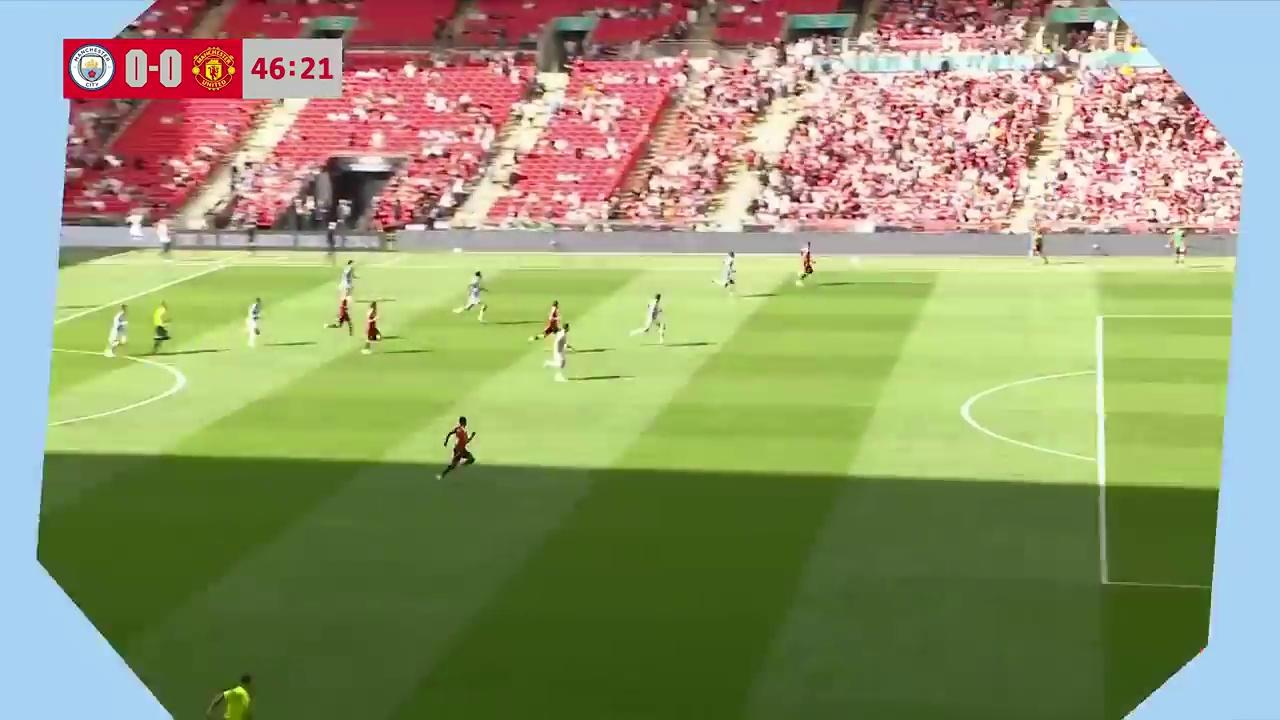player: (436, 415, 477, 481), (206, 671, 253, 720), (453, 273, 486, 320), (545, 323, 571, 380), (641, 293, 667, 341), (325, 293, 354, 336), (360, 301, 382, 351), (107, 303, 128, 355), (537, 300, 561, 343), (245, 296, 263, 347), (797, 243, 815, 284), (720, 251, 736, 293), (340, 260, 356, 300)
referee: (150, 302, 171, 356)
